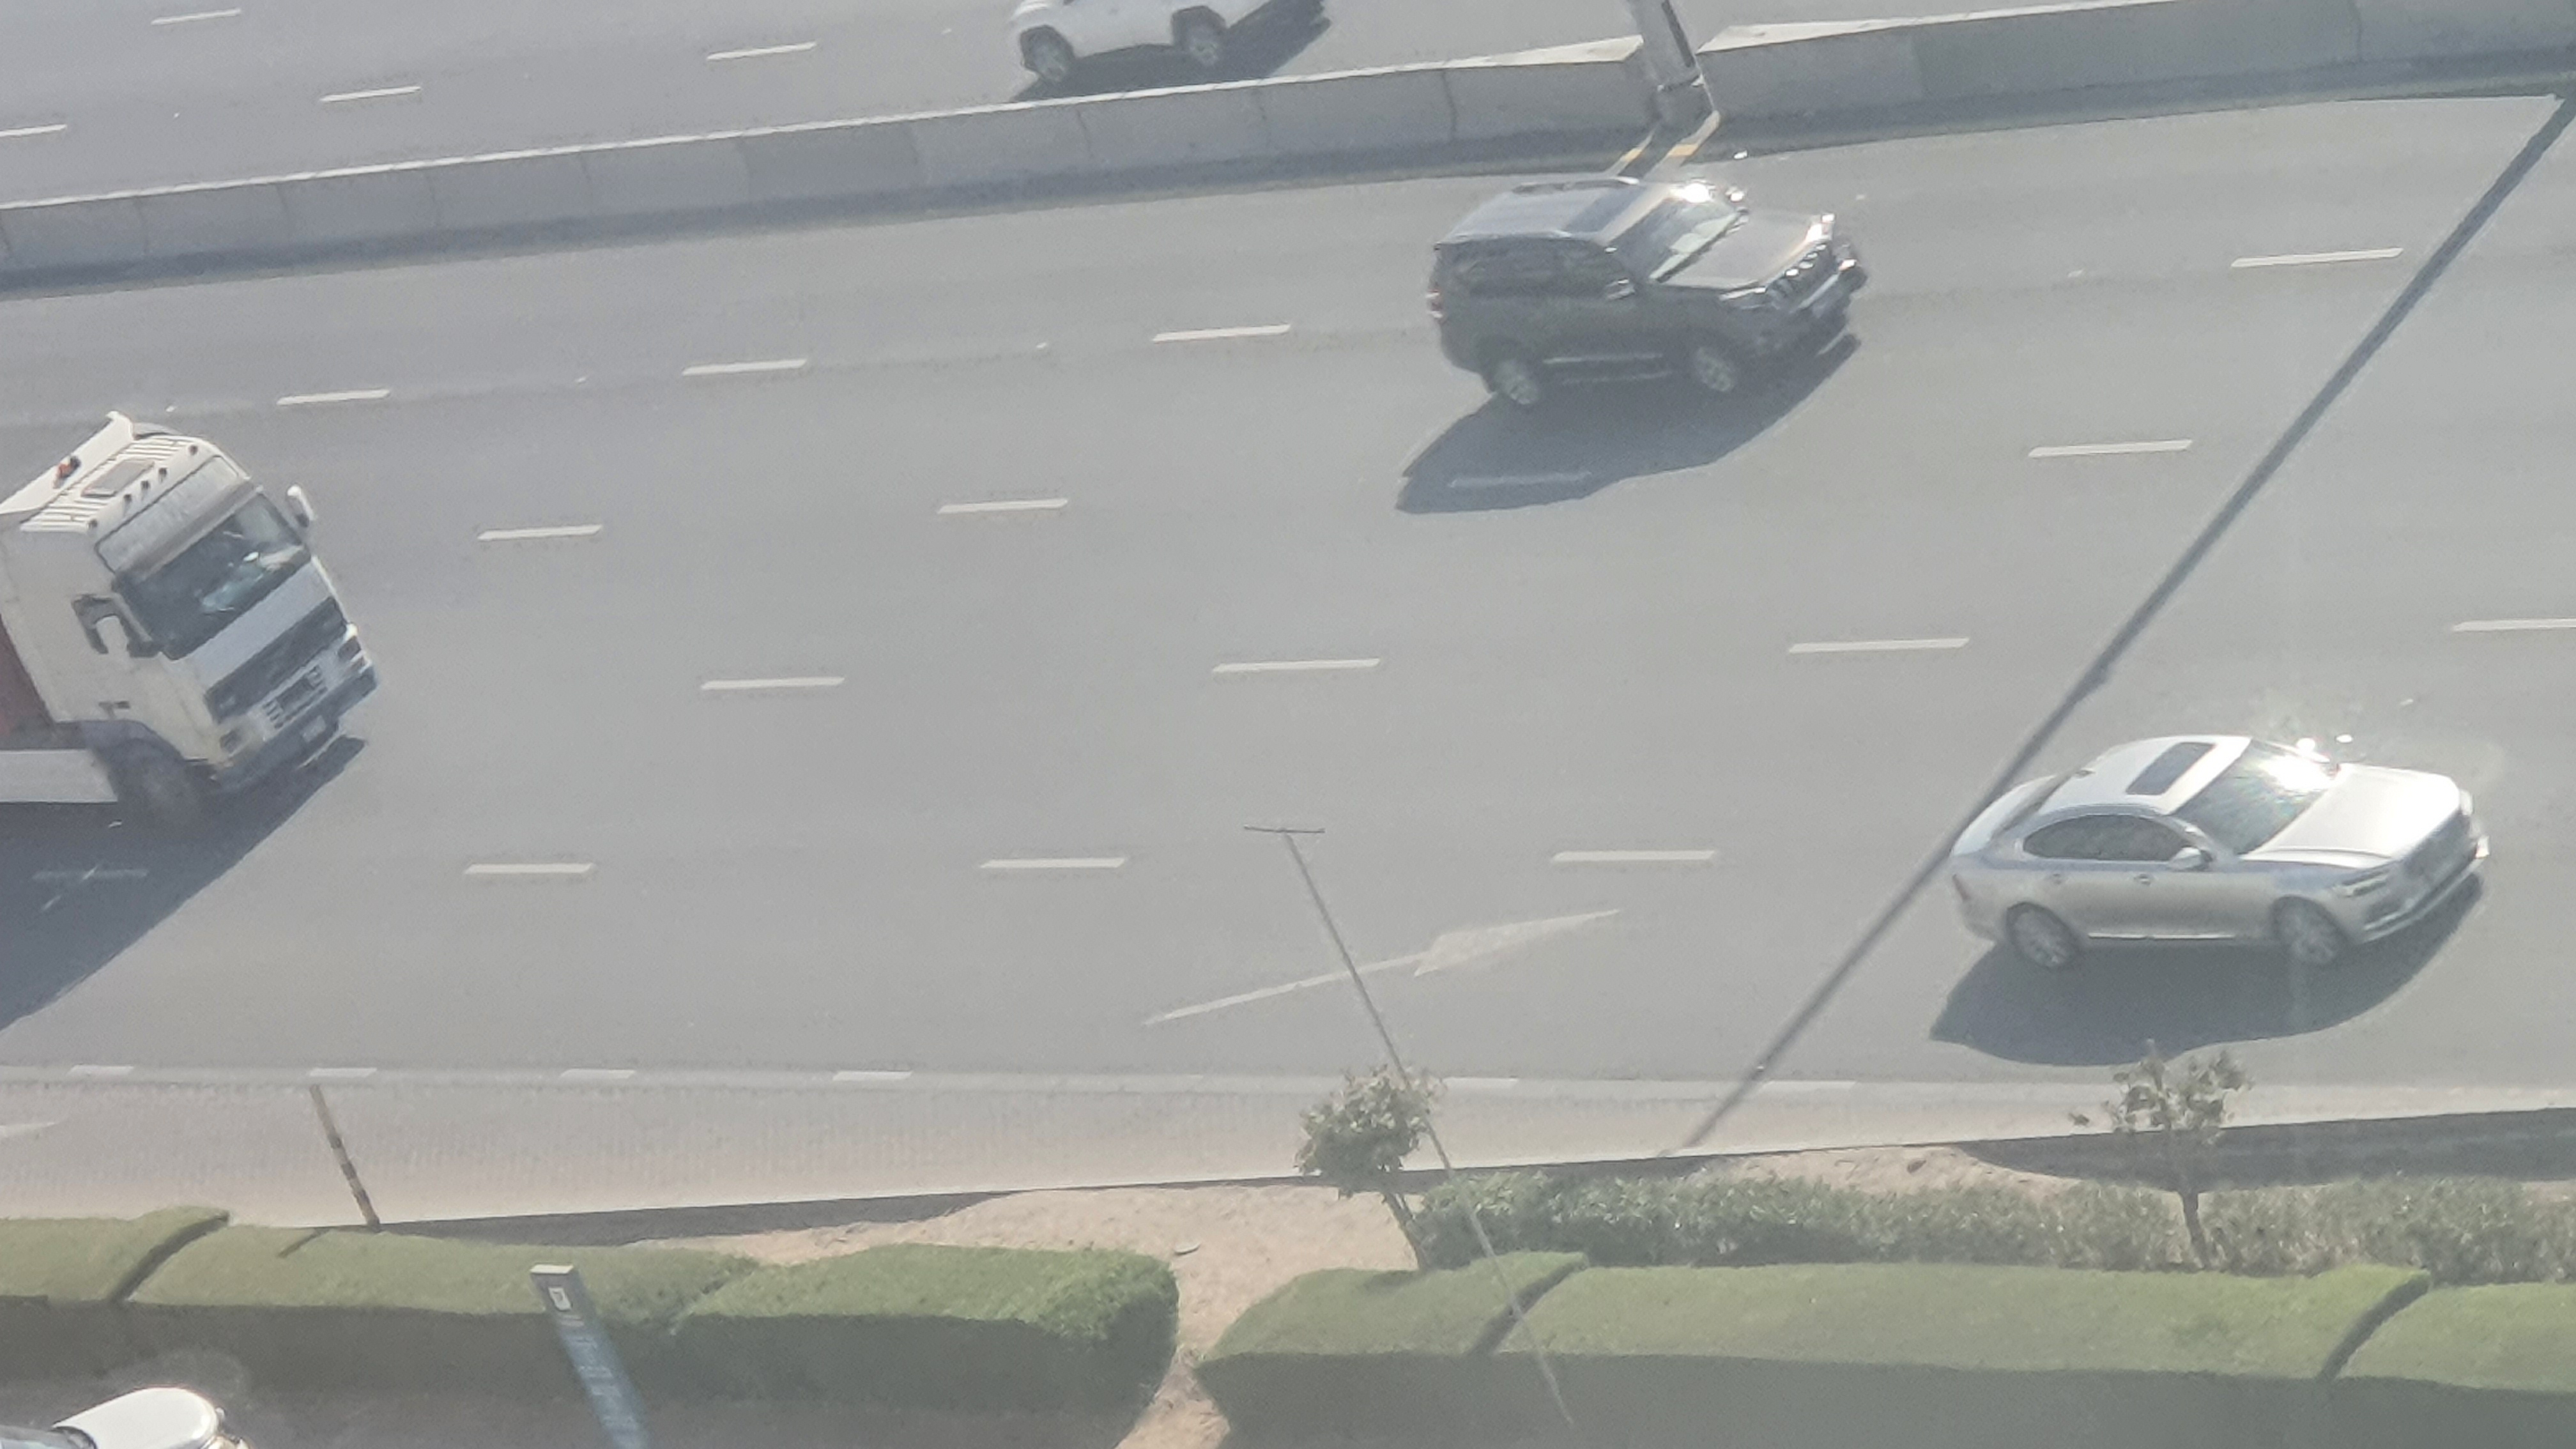Sunroof: (1937, 734, 2500, 985), (1419, 175, 1865, 412)
